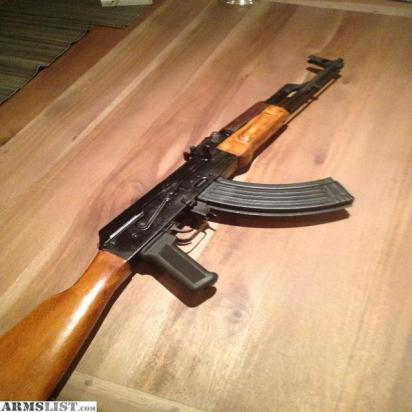Gun: (9, 50, 349, 394)
